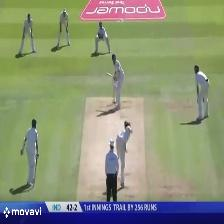batsman: (104, 50, 128, 111)
